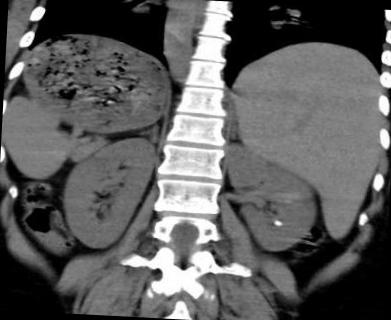Tas_Var: (270, 218, 284, 230)
